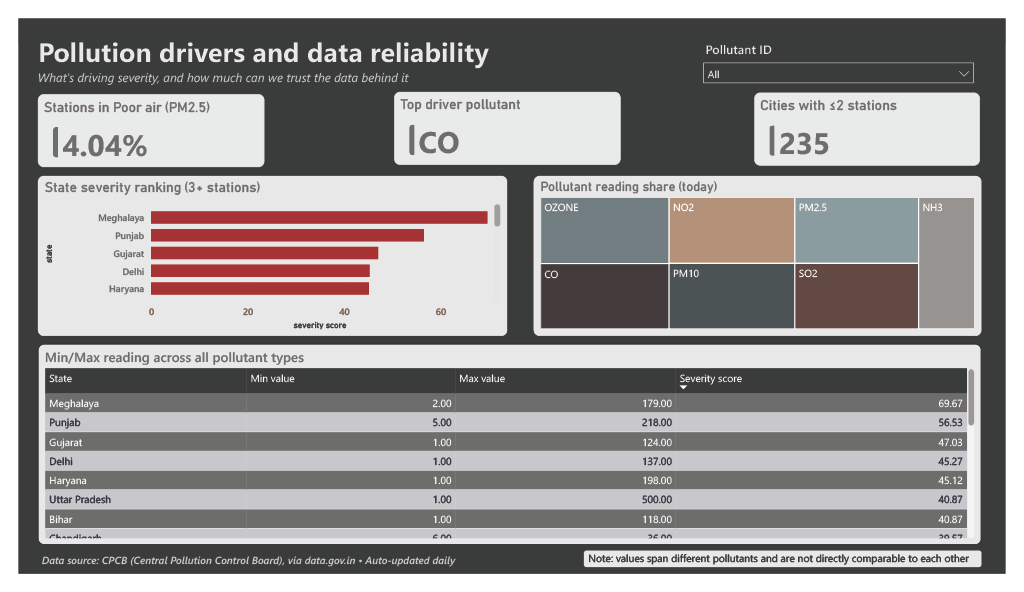

Layout of this report page (visuals, bound fields, positions):
{"tool":"powerbi","page":{"name":"Pollution Drivers & Data Reliability","canvas":[1280,720],"ordinal":1},"visuals":[{"type":"textbox","title":"Pollution drivers and data reliability","box":[12,12,648,104],"z":0},{"type":"cardVisual","title":"Stations in Poor air (PM2.5)","fields":{"Data":["aqi_project readings.Percent Poor Stations"]},"box":[25.4,98,293.6,95.3],"z":1000,"group":"g1"},{"type":"clusteredBarChart","title":"State severity ranking (3+ stations)","fields":{"Category":["aqi_project stations.state"],"Y":["aqi_project readings.State Severity Reliable"]},"box":[24.6,204.1,609.2,208.4],"z":1000},{"type":"cardVisual","title":"Top driver pollutant","fields":{"Data":["aqi_project readings.Top Driver Pollutant"]},"box":[487.4,95.4,294.2,94.8],"z":2000,"group":"g1"},{"type":"tableEx","title":"Min/Max reading across all pollutant types","fields":{"Values":["aqi_project stations.state","aqi_project readings.State Min Reliable","aqi_project readings.State Max Reliable","aqi_project readings.State Severity Reliable"]},"box":[25.4,422,1223.2,260.9],"z":2000},{"type":"cardVisual","title":"Cities with ≤2 stations","fields":{"Data":["aqi_project readings.Low Reliability Cities"]},"box":[954.2,96.5,293.6,95.3],"z":3000,"group":"g1"},{"type":"textbox","box":[733.3,690,515.4,22.3],"z":3000},{"type":"group","id":"g1","title":"Group 1","box":[25.4,95.4,1223.2,98.6],"z":4000},{"type":"treemap","title":"Pollutant reading share (today)","fields":{"Group":["aqi_project readings.pollutant_id"],"Values":["aqi_project readings.Pollutant Reading Count"]},"box":[668.1,203.6,580.6,208.4],"z":5000},{"type":"slicer","fields":{"Values":["aqi_project readings.pollutant_id"]},"box":[878,24,370.6,76.3],"z":6000},{"type":"textbox","title":"Data source: CPCB (Central Pollution Control Board), via data.gov.in • Auto-updated daily","box":[25.4,693.5,839.8,27],"z":7000}]}

Visuals, with their boxes in screenshot pixels (x1, y1, x2, y2), scaled from the page's 1280x720 canvas onto the 1024x592 screenshot:
"Pollution drivers and data reliability" textbox: rect(10, 10, 528, 95)
"Stations in Poor air (PM2.5)" cardVisual: rect(20, 81, 255, 159)
"State severity ranking (3+ stations)" clusteredBarChart: rect(20, 168, 507, 339)
"Top driver pollutant" cardVisual: rect(390, 78, 625, 156)
"Min/Max reading across all pollutant types" tableEx: rect(20, 347, 999, 561)
"Cities with ≤2 stations" cardVisual: rect(763, 79, 998, 158)
textbox: rect(587, 567, 999, 586)
"Group 1" group: rect(20, 78, 999, 160)
"Pollutant reading share (today)" treemap: rect(534, 167, 999, 339)
slicer - aqi_project readings.pollutant_id: rect(702, 20, 999, 82)
"Data source: CPCB (Central Pollution Control Board), via data.gov.in • Auto-updated daily" textbox: rect(20, 570, 692, 591)
